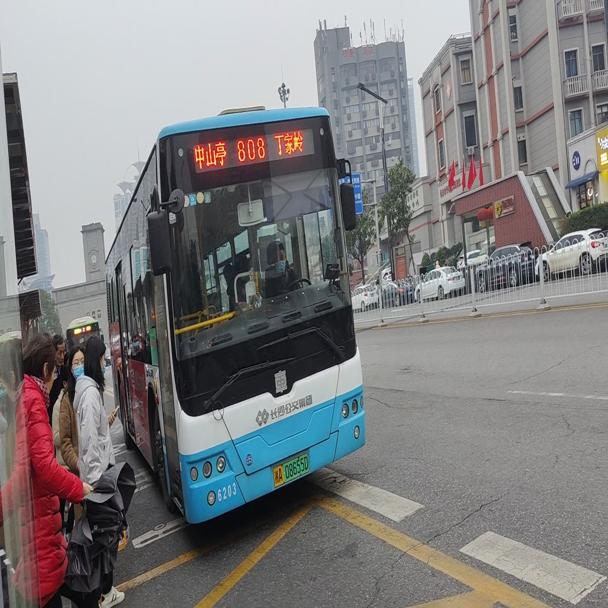bus: (102, 99, 372, 531), (68, 310, 99, 364)
screen: (231, 130, 268, 159)
